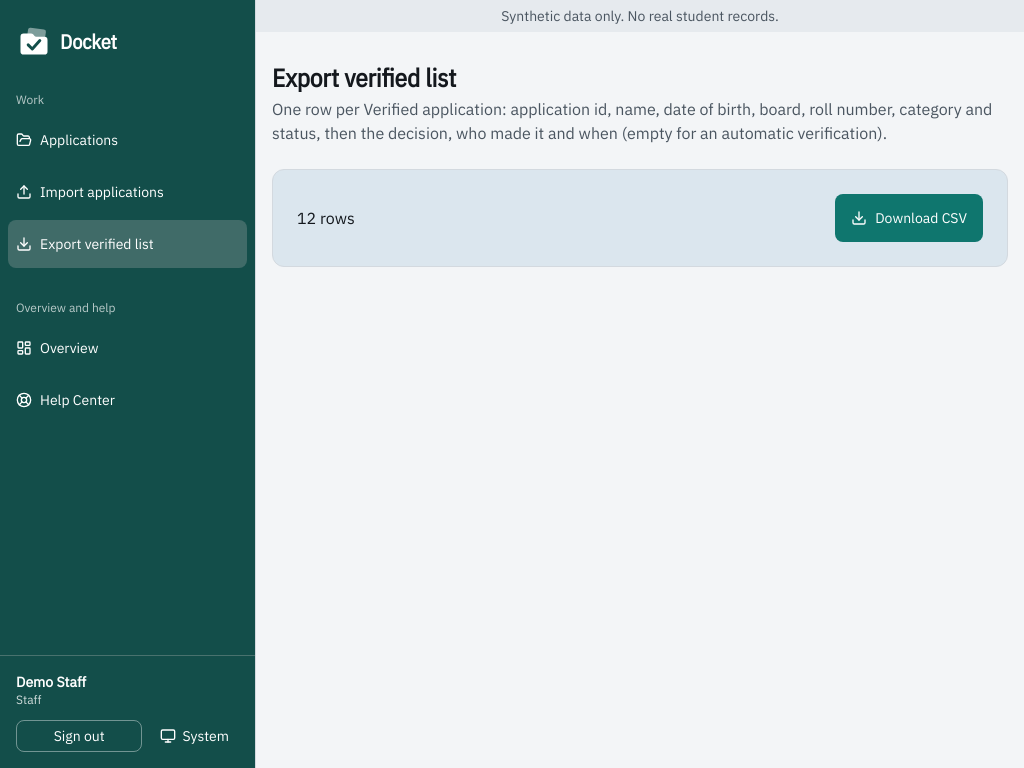
Test case: the export › tells a refused account that only staff can export
Click the button "Download CSV".
click(909, 218)  # box left=835, top=194, right=983, bottom=242
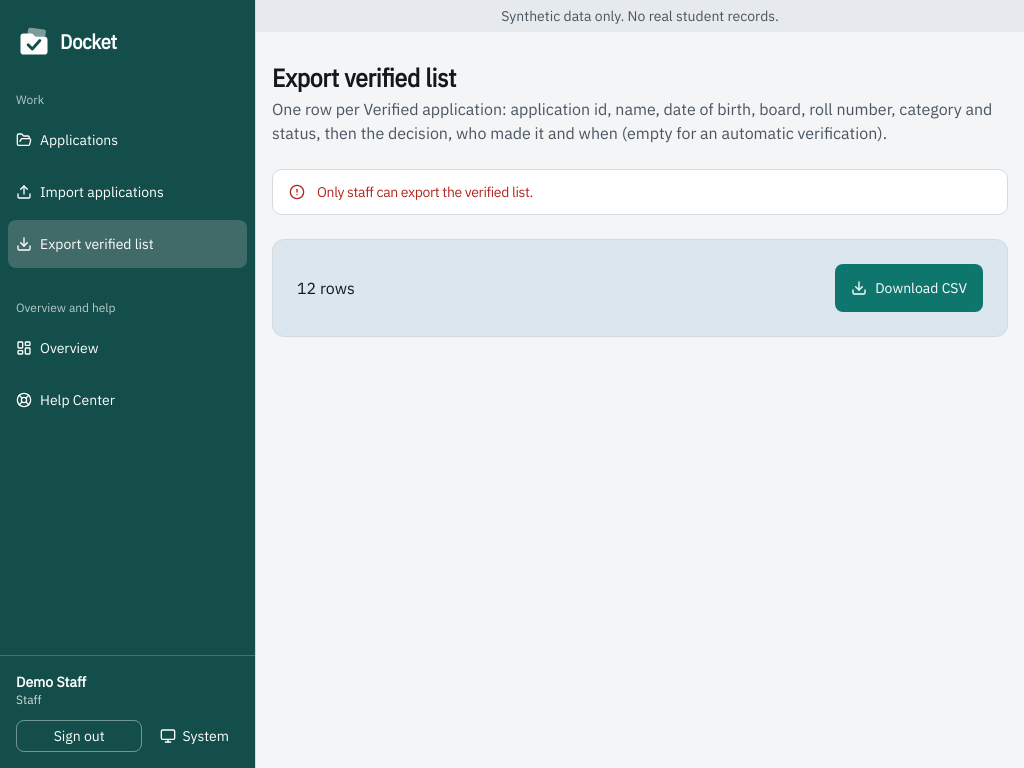
Result: the text "Only staff can export the verified list." is shown at left=317, top=183, right=533, bottom=201
